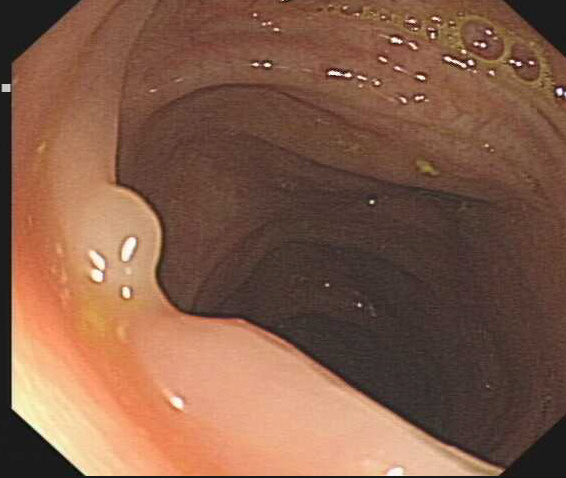adenoma: (155, 312, 365, 445), (93, 183, 163, 291)
